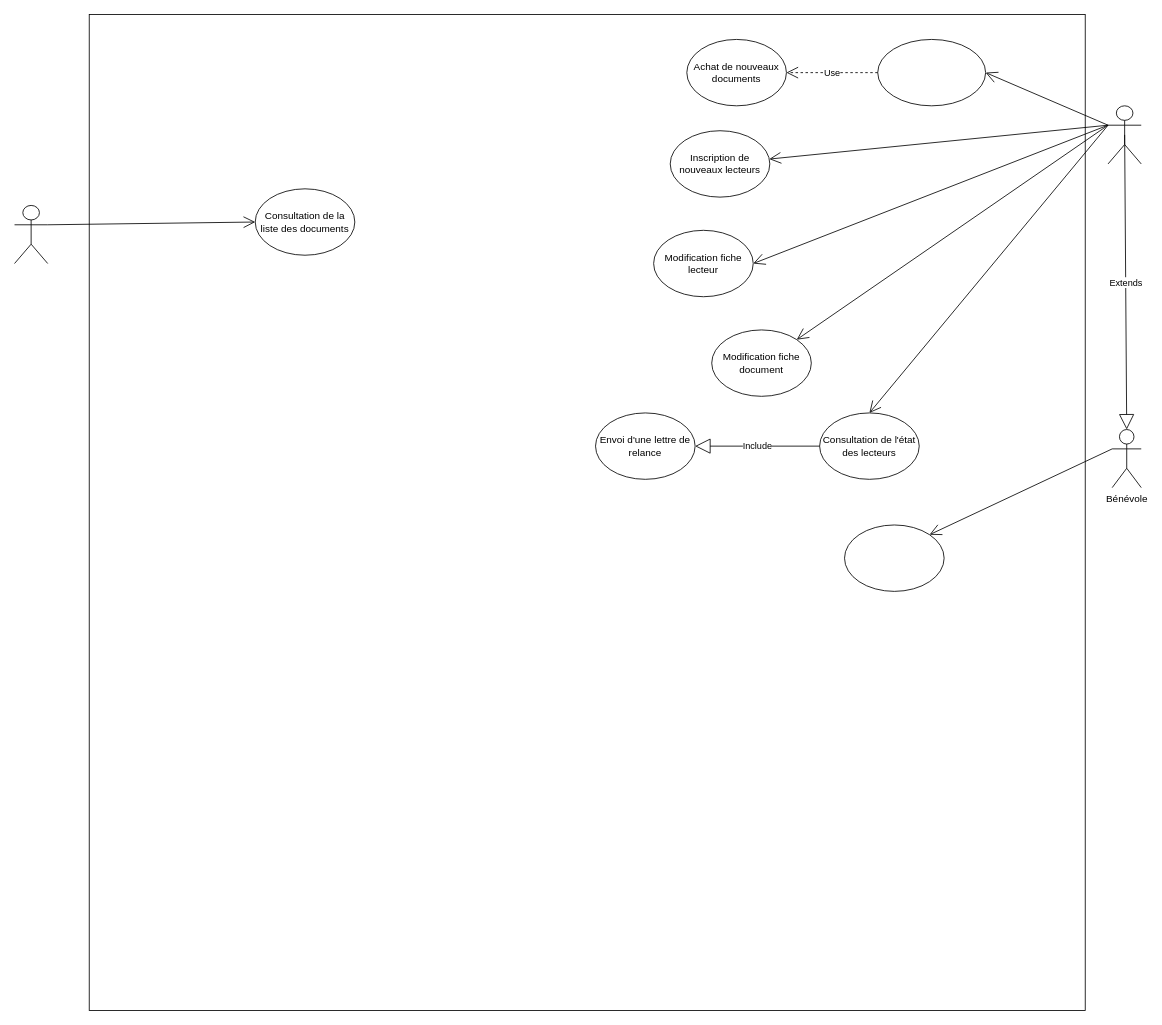
This 1162x1025 diagram has some shape labels left out. The shapes that lost their labels are listed below. From the top down, each one's box as (x1, y1, x2, y2) in pixels, then its label:
(877, 39, 986, 106): Enregistrement de nouveaux documents
(1107, 105, 1141, 164): Employé
(14, 205, 48, 264): Lecteur
(844, 524, 944, 591): Génération d'une fiche d'emprunt
